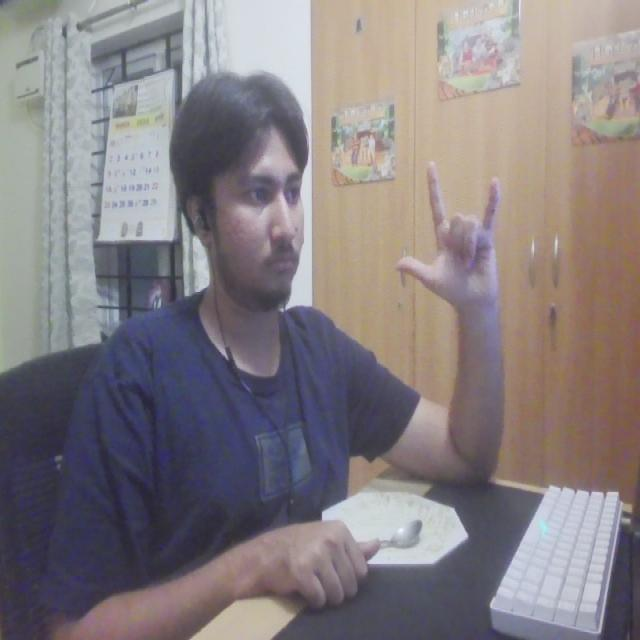iloveyou: (393, 162, 516, 321)
